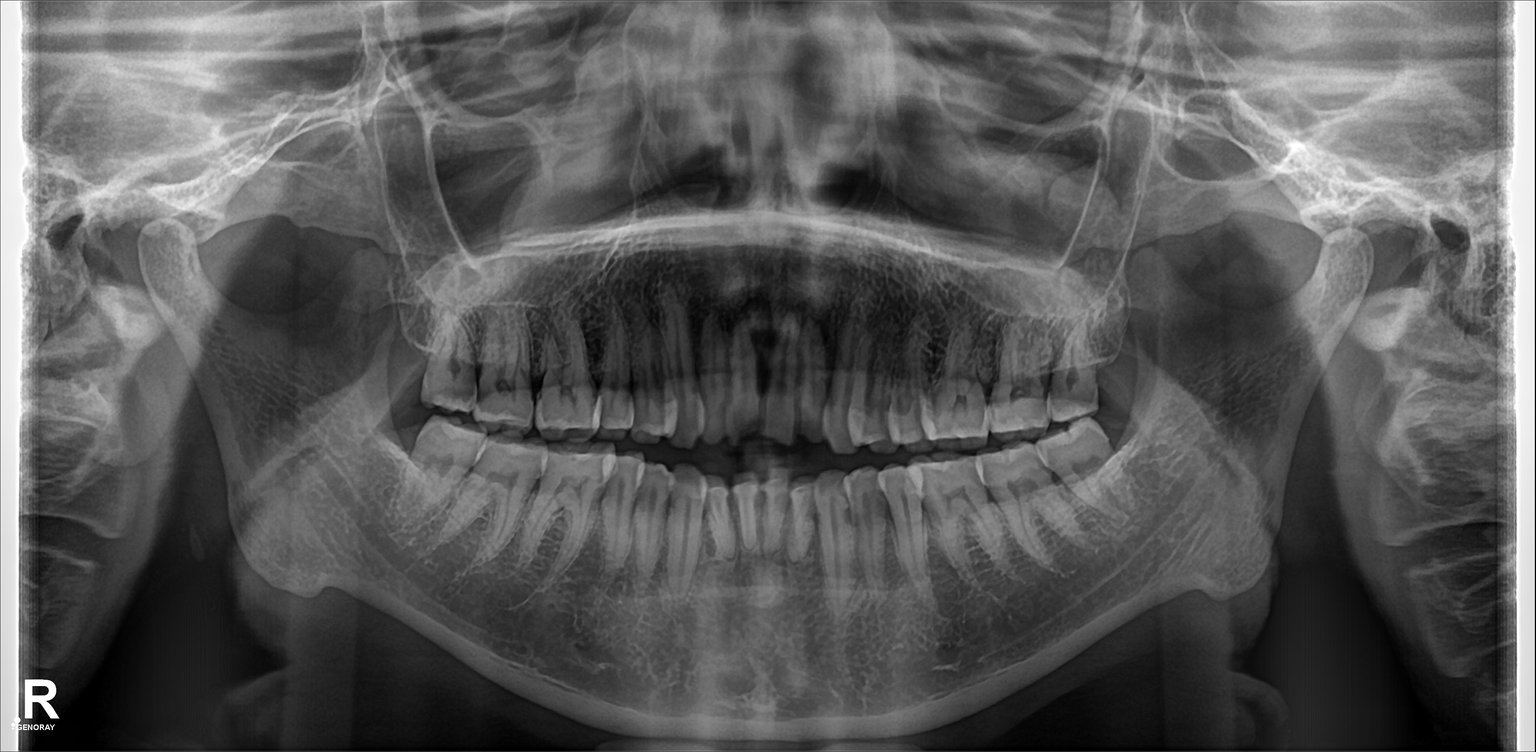Missing Tooth: (1097, 309, 1138, 404), (400, 307, 429, 402)
